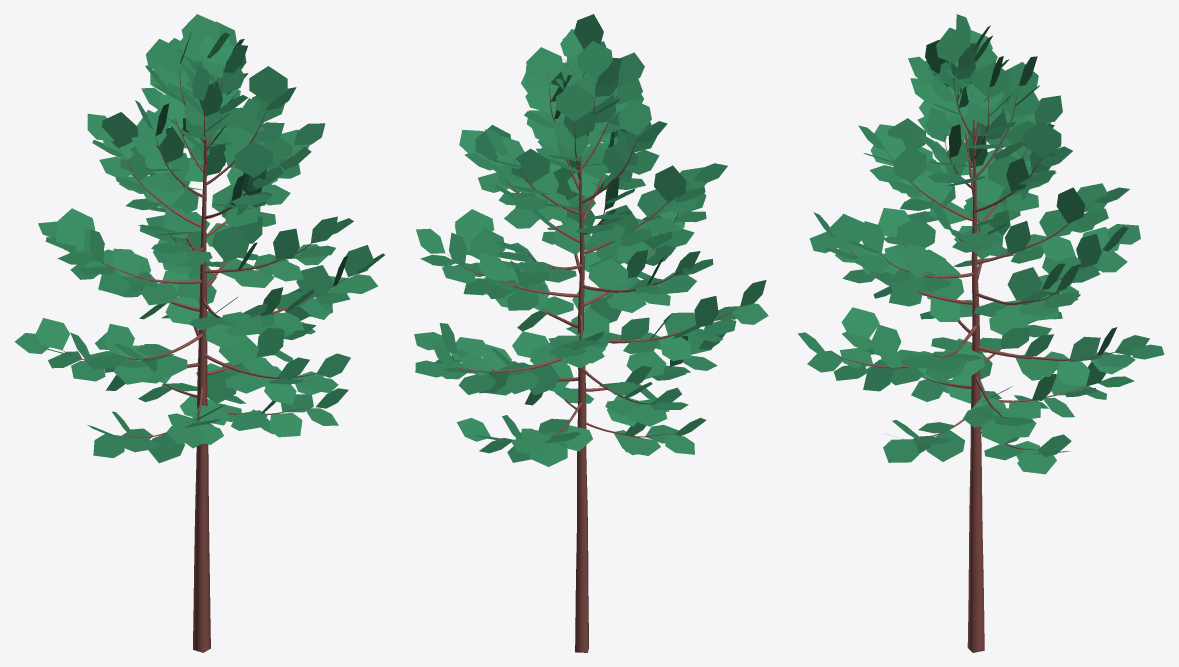
The model's file is tree_4.gltf.
3 views of the same model, side by side, from view 1: azimuth 30°, elevation 25°; view 2: azimuth 150°, elevation 25°; view 3: azimuth 270°, elevation 25° (orthographic).
Visible parts, largest first — view 1: leaves.001, tree.001; view 2: leaves.001, tree.001; view 3: leaves.001, tree.001.
Part boxes in pixels (<box>): leaves.001: <box>14,14,384,463</box>; tree.001: <box>62,61,348,652</box>; leaves.001: <box>414,14,768,466</box>; tree.001: <box>445,72,737,652</box>; leaves.001: <box>797,14,1164,474</box>; tree.001: <box>828,65,1128,652</box>.
Bounding box in the file's own units: 9.08 × 18.24 × 9.56.
